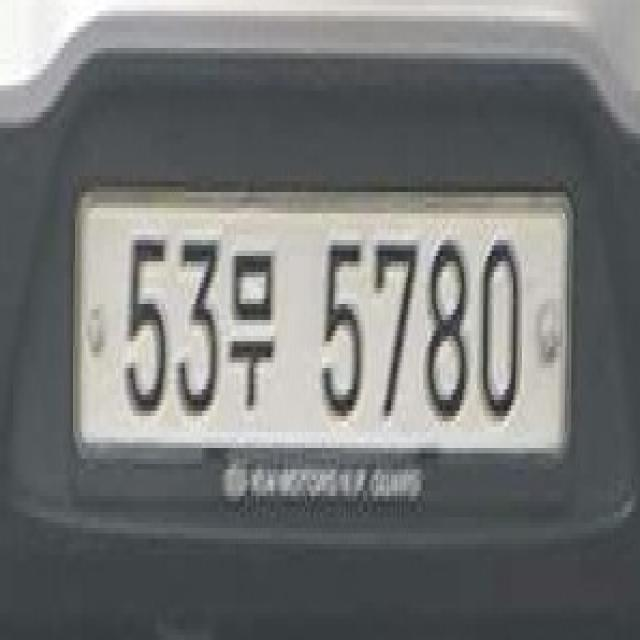0: (477, 218, 528, 442)
3: (180, 219, 237, 448)
5: (118, 219, 174, 421), (322, 197, 367, 443)
7: (372, 234, 425, 426)
8: (426, 219, 472, 432)
license_plate: (67, 192, 584, 517)
mu: (221, 234, 277, 410)
